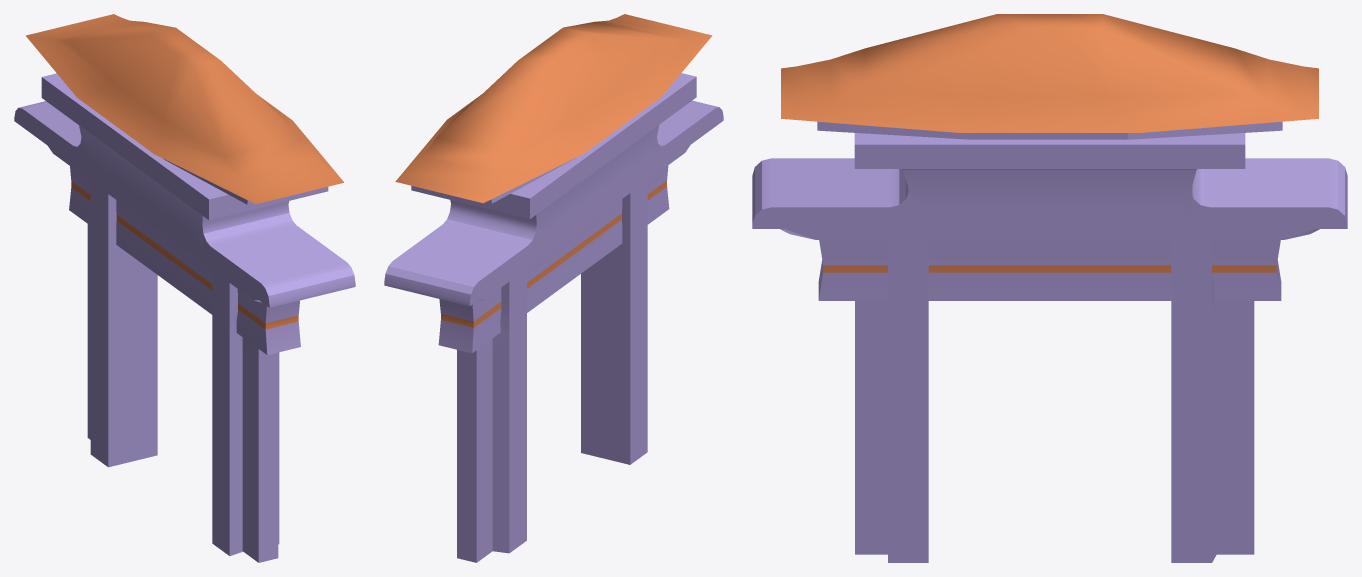
The model's file is Door Wall.fbx.
The picture shows the model from 3 angles, left to right: view 1: azimuth 30°, elevation 25°; view 2: azimuth 150°, elevation 25°; view 3: azimuth 270°, elevation 25°; orthographic projection. The views are drawn at different scales.
Parts seen in each view (by area): view 1: Cube.095; view 2: Cube.095; view 3: Cube.095.
Boxes of the visible parts, x1=… form: Cube.095: x1=14, y1=14, x2=355, y2=562; Cube.095: x1=384, y1=14, x2=723, y2=562; Cube.095: x1=752, y1=14, x2=1347, y2=562.
Size of the model in its own units: 280 by 874 by 894.
